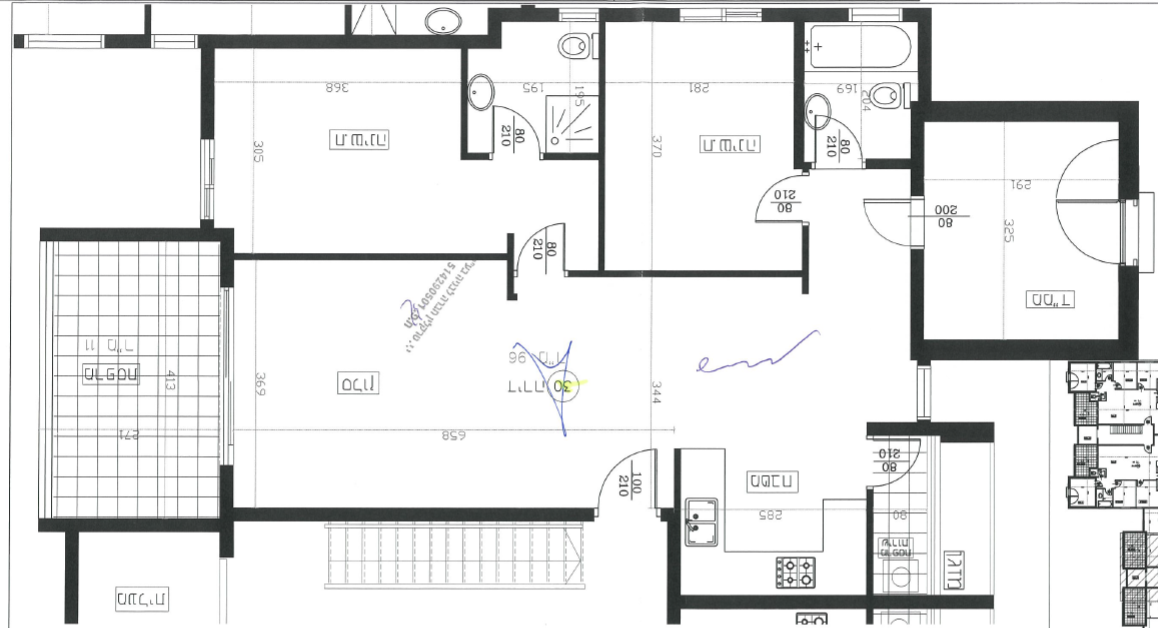door: (1048, 191, 1115, 269), (593, 444, 665, 502), (515, 212, 587, 270), (750, 170, 806, 228), (858, 193, 914, 251), (873, 434, 929, 492)
wall: (911, 102, 1140, 123), (911, 339, 1140, 360), (667, 594, 994, 608), (197, 33, 501, 47), (220, 509, 595, 520), (38, 520, 234, 531), (40, 229, 236, 240), (221, 253, 512, 260)
window: (220, 287, 235, 468), (23, 33, 102, 49), (677, 7, 761, 22), (199, 138, 213, 221), (848, 5, 901, 21), (150, 33, 196, 47), (557, 7, 599, 21)
